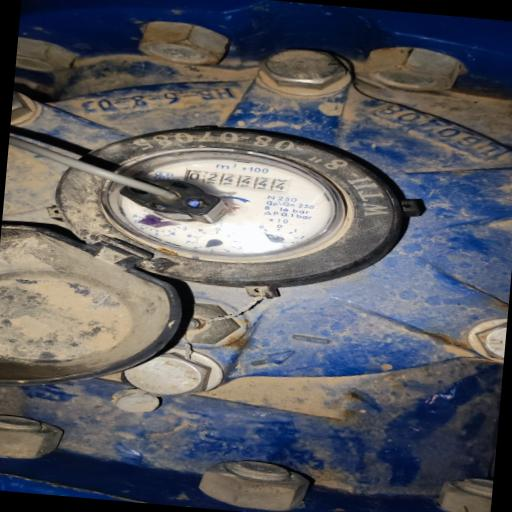0: (185, 171, 204, 182)
2: (206, 172, 222, 182)
4: (238, 176, 256, 186), (222, 174, 238, 184), (256, 178, 272, 188), (274, 181, 290, 191)
medida: (182, 170, 293, 193)
